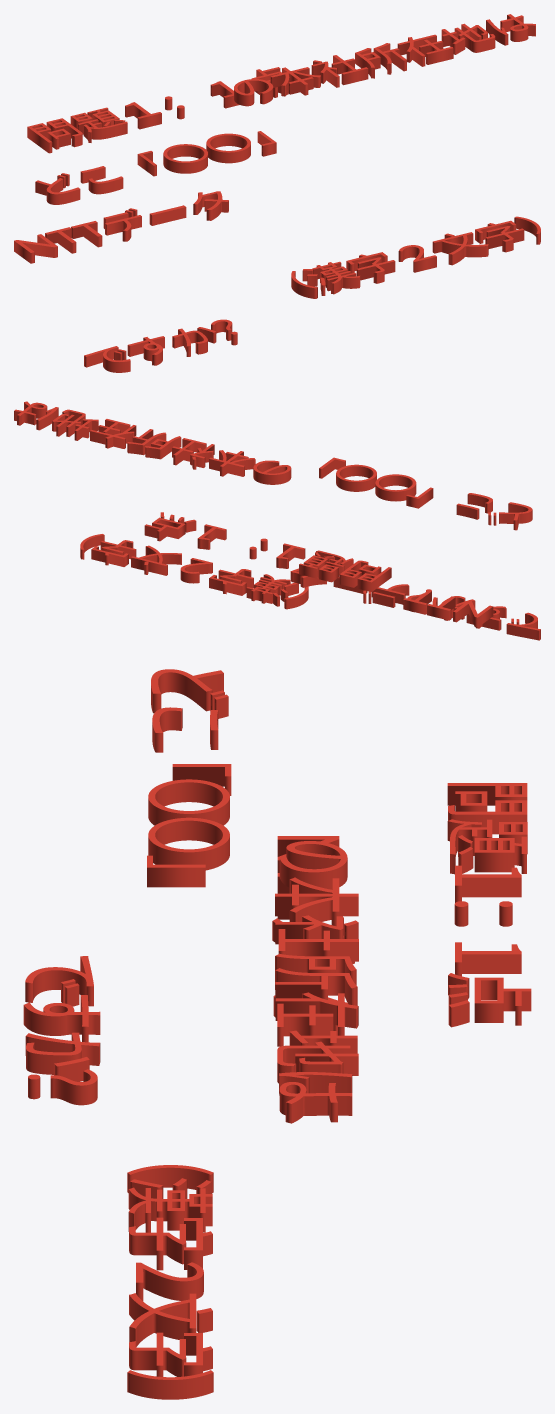
3 views of the same model, one above another, from view 1: azimuth 30°, elevation 25°; view 2: azimuth 150°, elevation 25°; view 3: azimuth 270°, elevation 25° (orthographic). The views are drawn at different scales.
Visible parts, largest first — view 1: テキスト.003, テキスト.005, テキスト.004, テキスト.006, テキスト.001, テキスト.002; view 2: テキスト.003, テキスト.005, テキスト.006, テキスト.004, テキスト.001, テキスト.002; view 3: テキスト.003, テキスト.005, テキスト.006, テキスト.004, テキスト.002, テキスト.001.
Boxes of the visible parts, x1,y1,x2,y2 form: テキスト.003: (234, 14, 535, 106); テキスト.005: (291, 216, 540, 298); テキスト.004: (35, 131, 276, 204); テキスト.006: (27, 67, 288, 153); テキスト.001: (14, 191, 228, 263); テキスト.002: (84, 319, 237, 372); テキスト.003: (14, 401, 291, 484); テキスト.005: (80, 534, 308, 609); テキスト.006: (144, 512, 391, 591); テキスト.004: (319, 457, 532, 530); テキスト.001: (290, 568, 493, 627); テキスト.002: (407, 589, 540, 640); テキスト.003: (275, 841, 358, 1123); テキスト.005: (127, 1165, 213, 1399); テキスト.006: (447, 783, 531, 1027); テキスト.004: (147, 669, 231, 887); テキスト.002: (23, 956, 100, 1105); テキスト.001: (272, 836, 354, 1035).
Bounding box in the file's own units: 12.14 × 3.95 × 5.6.
